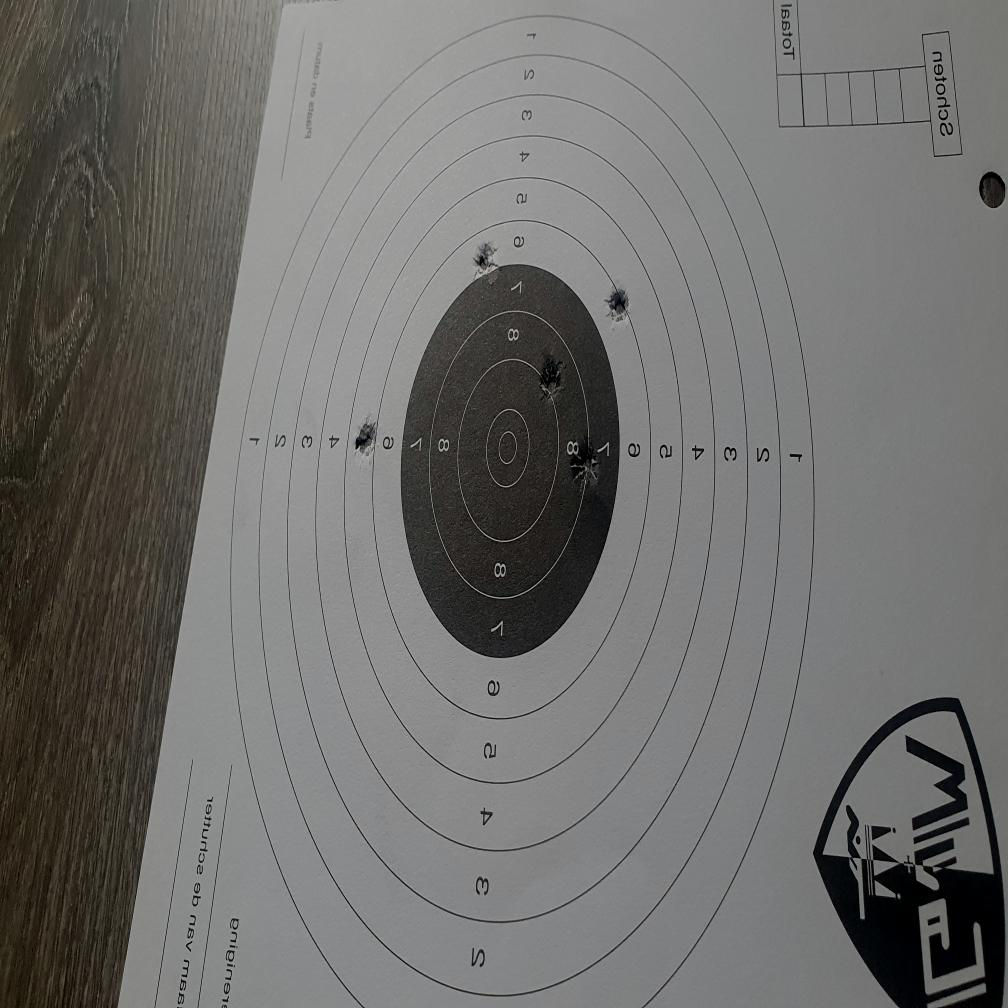6: (355, 413, 381, 470), (604, 280, 632, 330)
7: (472, 241, 501, 282)
8: (571, 443, 599, 491)
9: (540, 356, 564, 400)
Target: (230, 19, 816, 1008)
black_contour: (401, 261, 622, 660)
